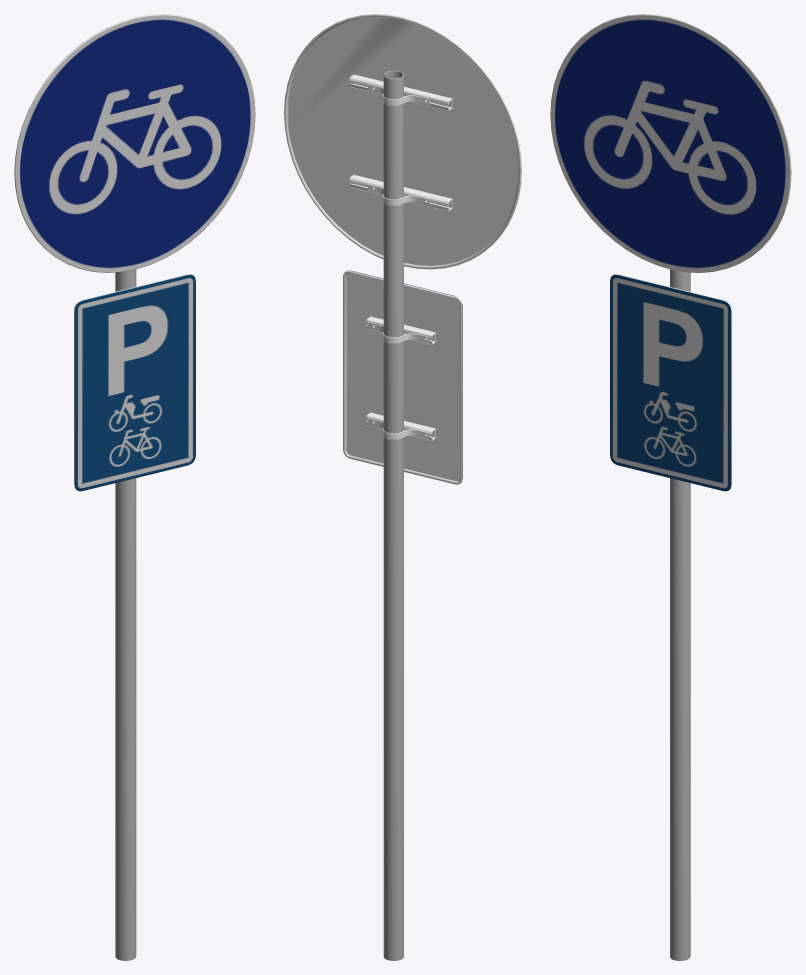
File: sign-eu-14.glb
3 views of the same model, side by side, from view 1: azimuth 30°, elevation 25°; view 2: azimuth 150°, elevation 25°; view 3: azimuth 330°, elevation 25° (orthographic).
Parts seen in each view (by area): view 1: vm_ST_sign_14; view 2: vm_ST_sign_14; view 3: vm_ST_sign_14.
Part boxes in pixels (left/top/right/bottom): vm_ST_sign_14: left=14, top=14, right=255, bottom=960; vm_ST_sign_14: left=284, top=14, right=521, bottom=960; vm_ST_sign_14: left=550, top=14, right=791, bottom=960.
Bounding box in the file's own units: 0.7678 × 2.88 × 0.0846.
Materials: 4 (2 with a texture image).
